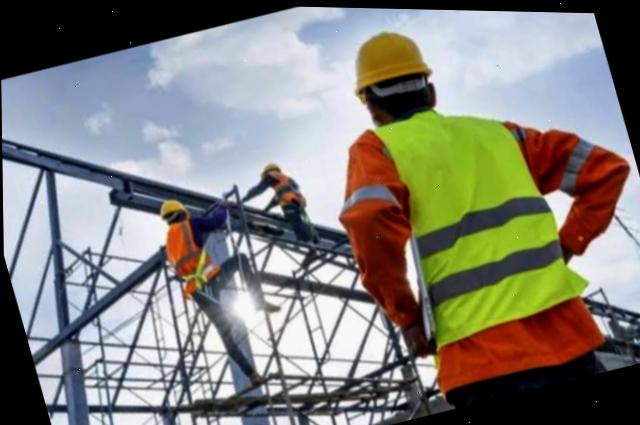helmet: (326, 15, 440, 95), (148, 186, 190, 219), (255, 152, 289, 178)
vest: (335, 76, 602, 352), (160, 216, 219, 295)
